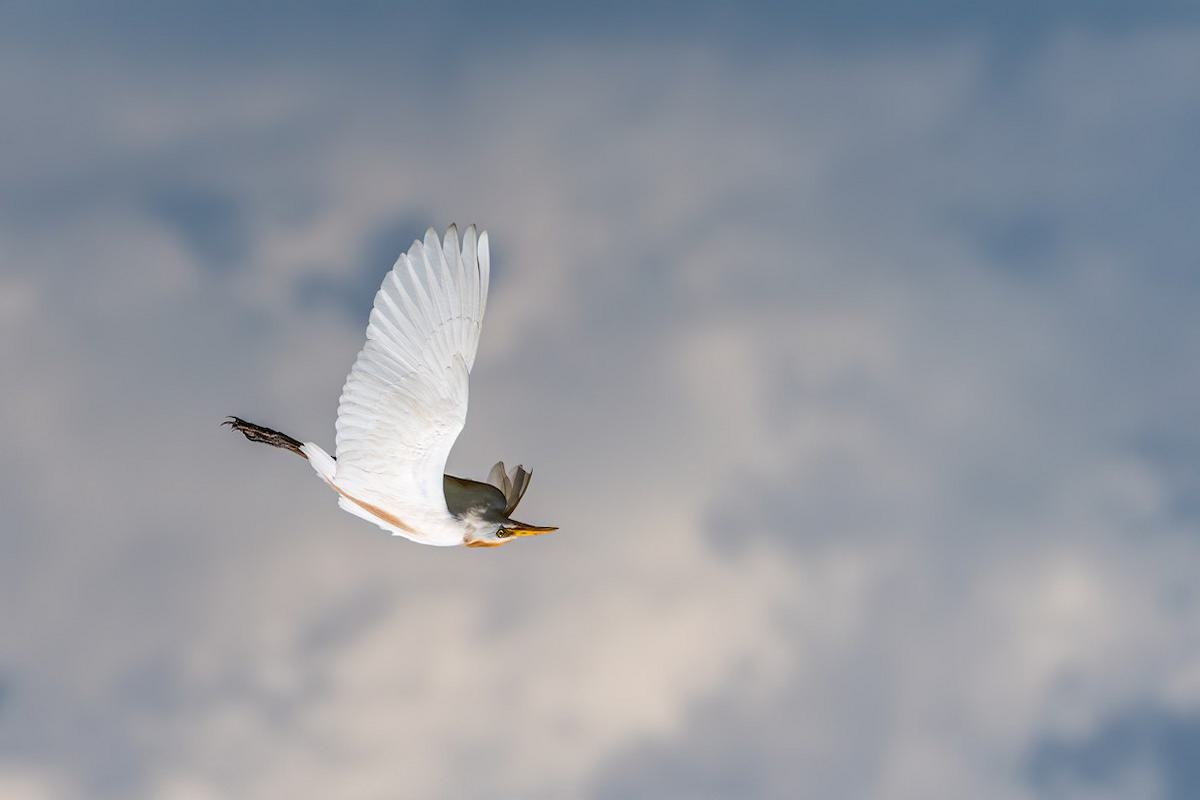egret: (247, 223, 563, 565)
